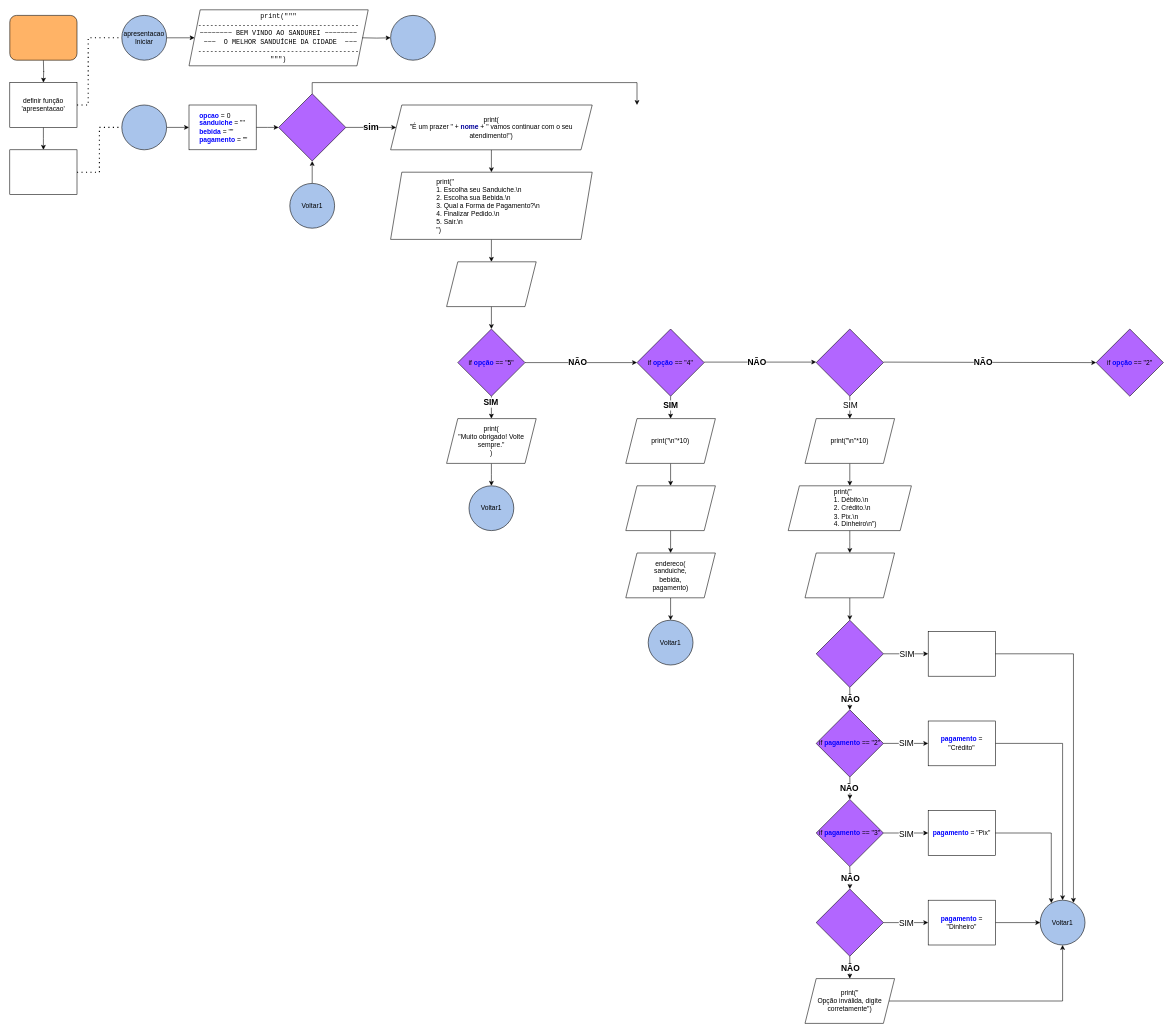
This 1173x1033 diagram has some shape labels left out. The shapes that lost their labels are listed below. From the top down, each one's box as (x1, y1, x2, y2) in pixels, then its label:
(9, 15, 77, 60): Iniciar
(390, 15, 435, 60): apresentacao Terminar
(121, 104, 167, 150): menu1 Iniciar
(278, 93, 346, 161): if opcao != "5"
(9, 149, 77, 195): definir função 'menu1'
(446, 261, 536, 307): opcao = input( "Qual opção deseja?" )
(816, 328, 883, 396): if opção == "3"
(625, 485, 715, 531): print("Finalizando...")
(804, 552, 895, 598): pagamento = input( "Qual opção deseja?" )
(816, 620, 883, 687): if pagamento == "1"
(928, 631, 995, 676): pagamento = "Débito"
(816, 888, 883, 956): if pagamento == "4"
